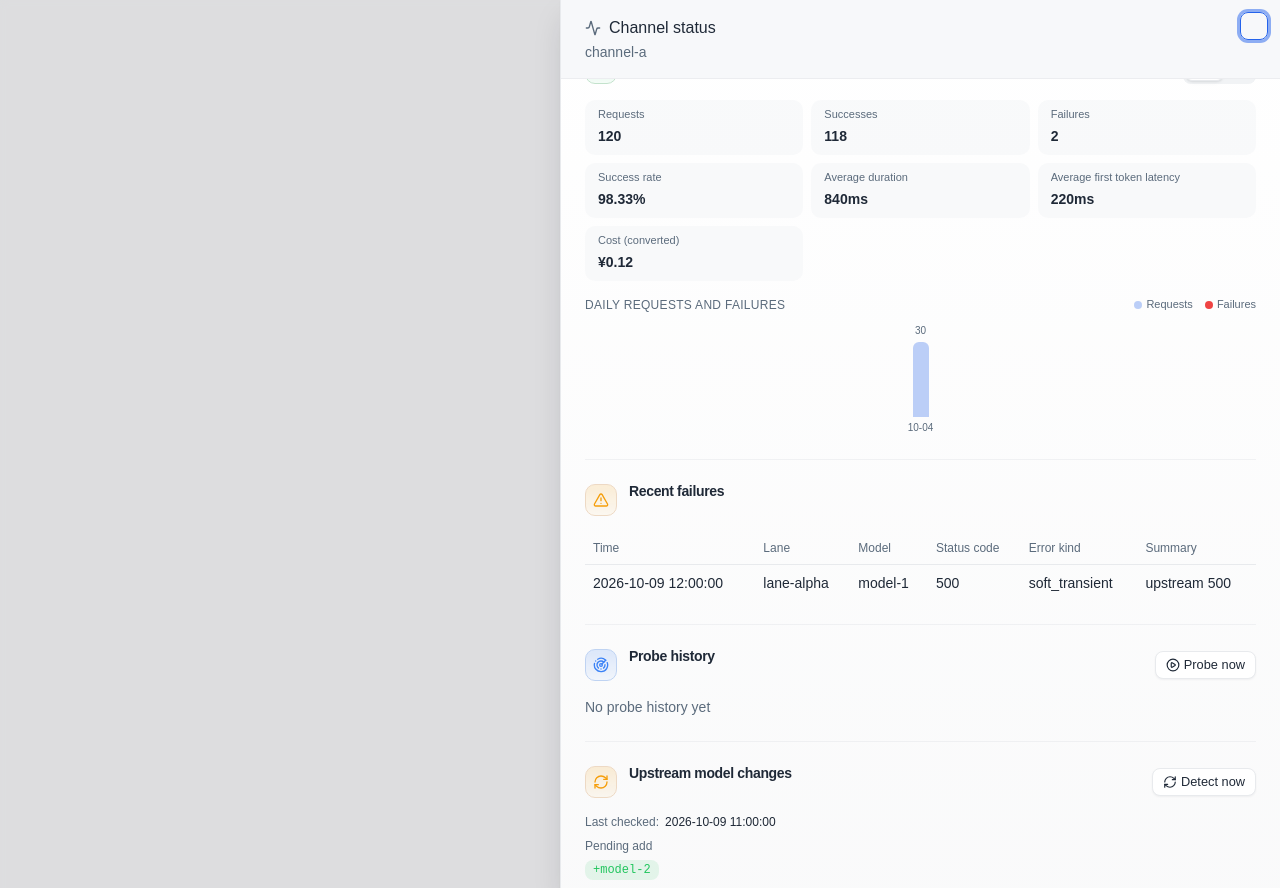
it: ChannelStatusDrawer 立即探活 › surfaces a failed probe without dropping the probe record
(page scrolled)
Expected: the text "No probe history yet" is shown, [585, 699, 710, 715]
Click the button "Probe now": {"x": 1205, "y": 665} [1155, 651, 1256, 679]
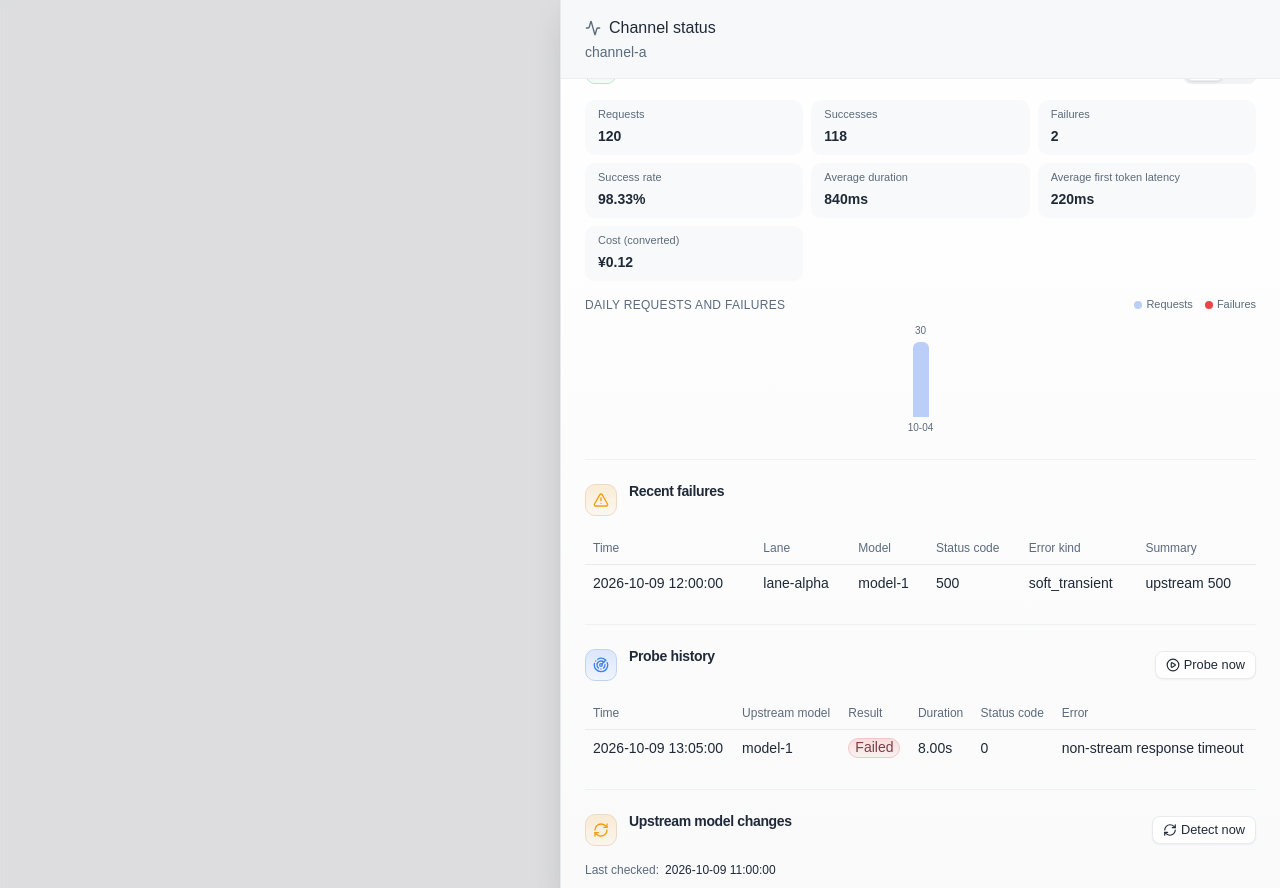
Expected: the text "non-stream response timeout" is shown, [1062, 738, 1248, 758]
Expected: the text "Failed" is shown, [855, 737, 893, 758]
